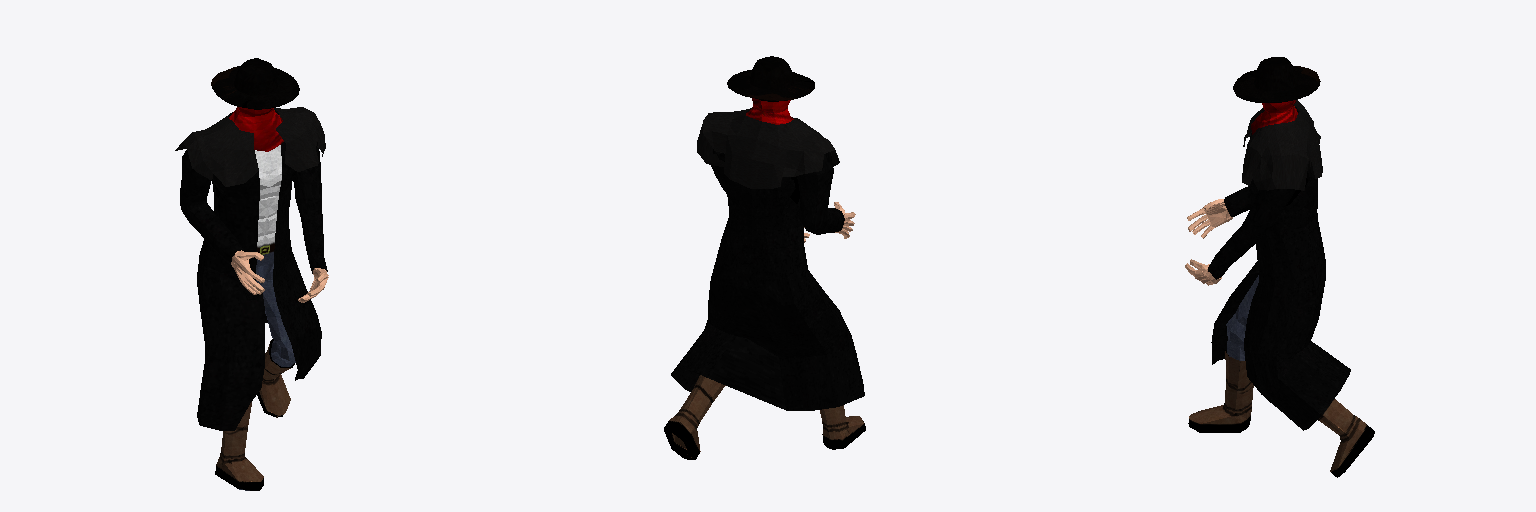
The picture shows the model from 3 angles: view 1: azimuth 30°, elevation 25°; view 2: azimuth 150°, elevation 25°; view 3: azimuth 270°, elevation 25°; orthographic projection.
Visible parts, largest first — view 1: Undertaker_4:Undertaker_4:Undertaker; view 2: Undertaker_4:Undertaker_4:Undertaker; view 3: Undertaker_4:Undertaker_4:Undertaker.
Boxes of the visible parts, <box> form: Undertaker_4:Undertaker_4:Undertaker: <box>175,58,328,490</box>; Undertaker_4:Undertaker_4:Undertaker: <box>664,56,865,459</box>; Undertaker_4:Undertaker_4:Undertaker: <box>1185,57,1374,477</box>.
Bounding box in the file's own units: 1.14 × 2.77 × 1.23.
Materials: 1 (1 with a texture image).